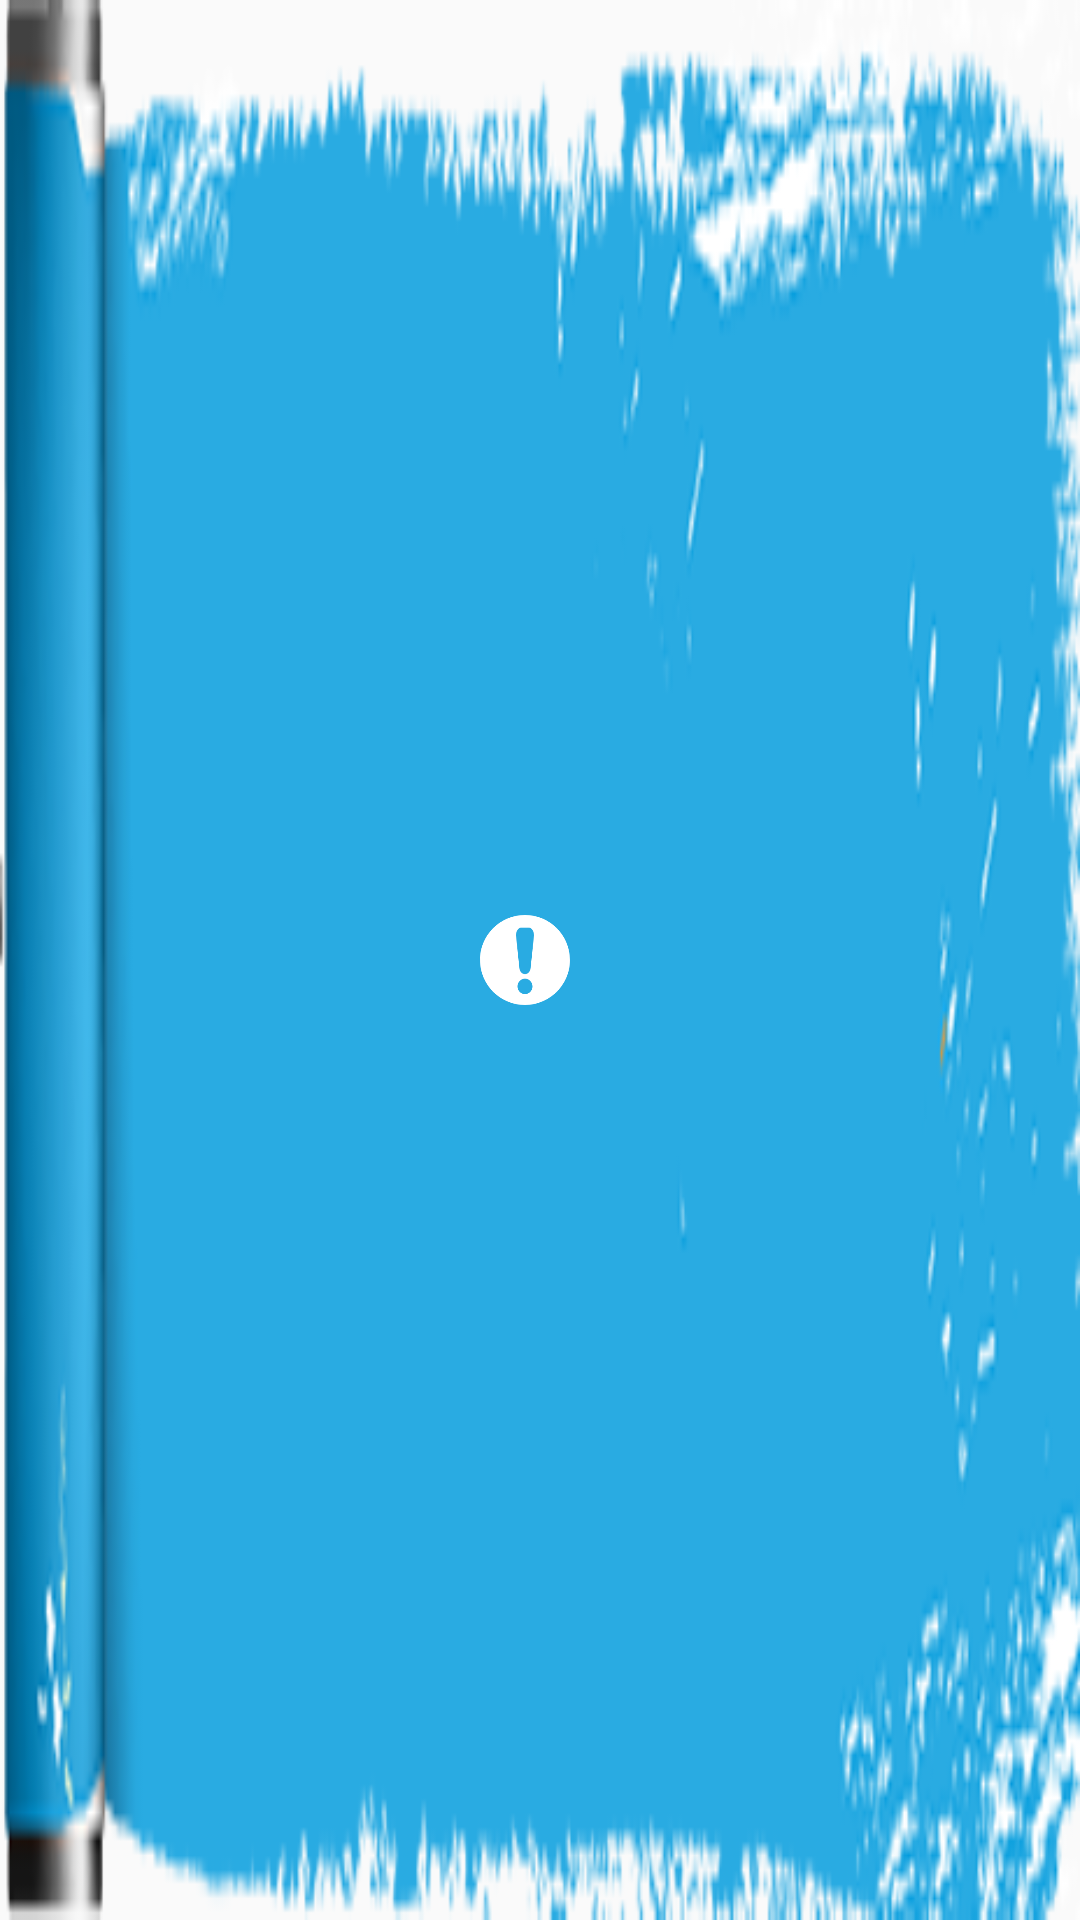

Point at icon controls on the screen. Image size 1080*1920, points as point (x, y).
toast tips: point (525, 960)
